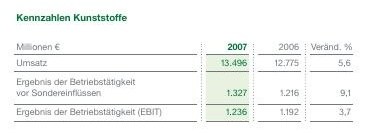table: (0, 0, 373, 133)
